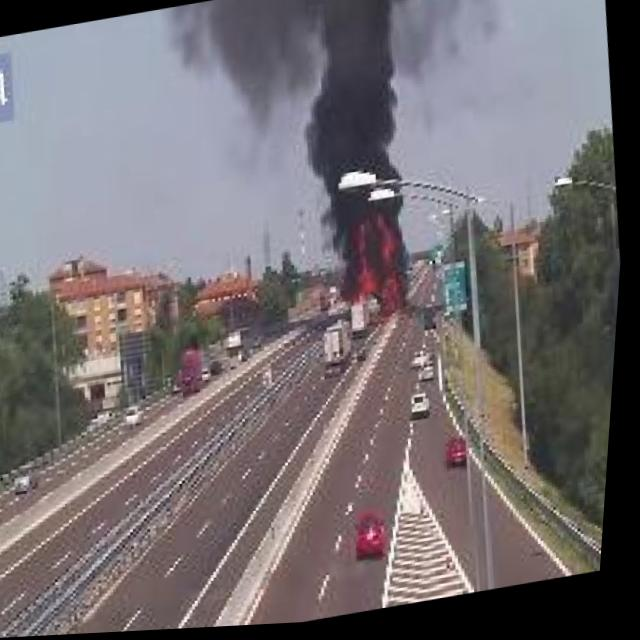fire: (343, 209, 420, 330)
